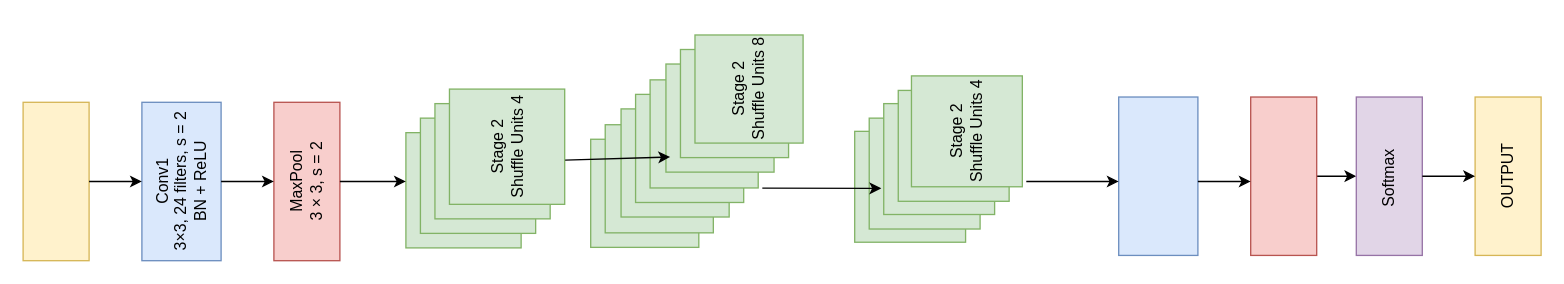
The diagram is 1564 pixels wide and 284 high, and some of its shapes have lost their labels. Here are the shapes that lost their labels. From the top down, the centre of each, then its label:
the point at 55,181: INPUT IMAGE (224 × 224 × 3)
the point at 1157,175: Conv5 1 × 1, 1024 filters BN + ReLU
the point at 1283,175: Global Avg Pool 7 × 7
